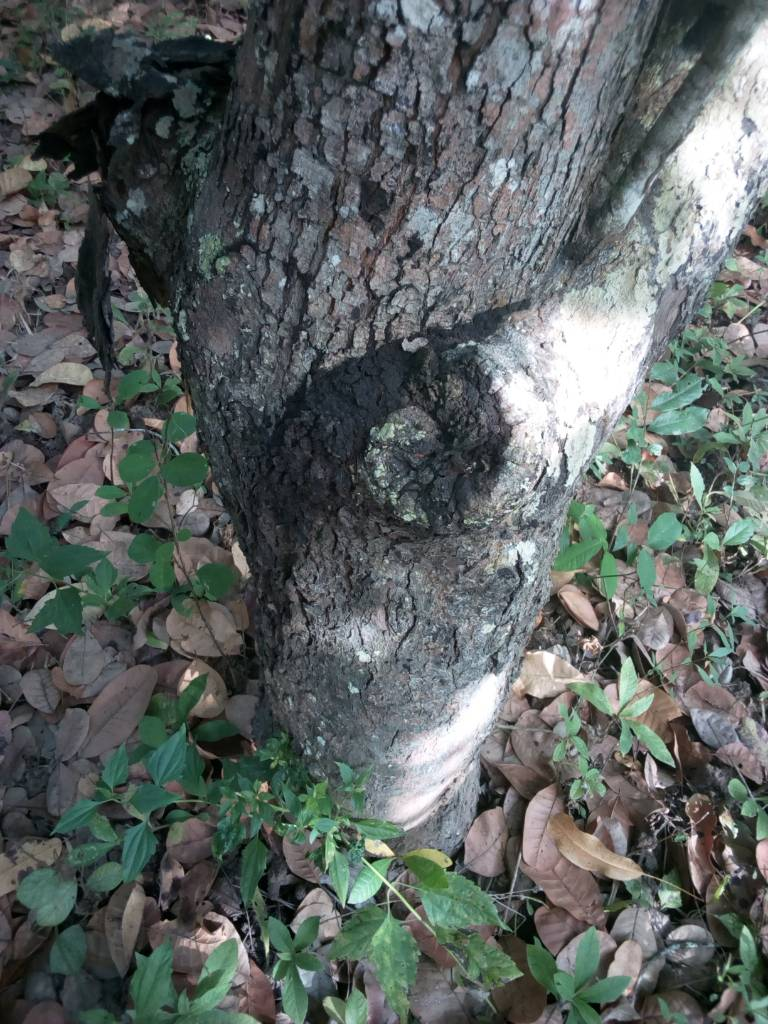Termites: (263, 60, 540, 757)
